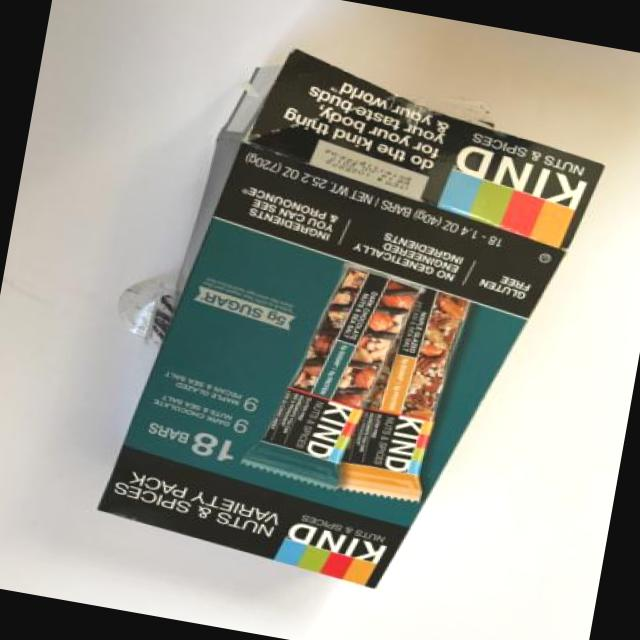paper: (90, 48, 606, 602)
